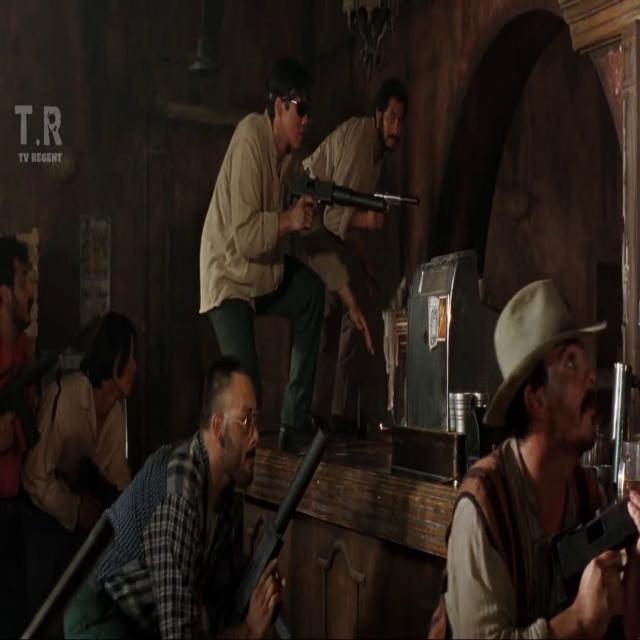long weapon: (222, 403, 342, 639), (0, 295, 99, 452), (545, 480, 639, 639), (264, 162, 388, 231)
